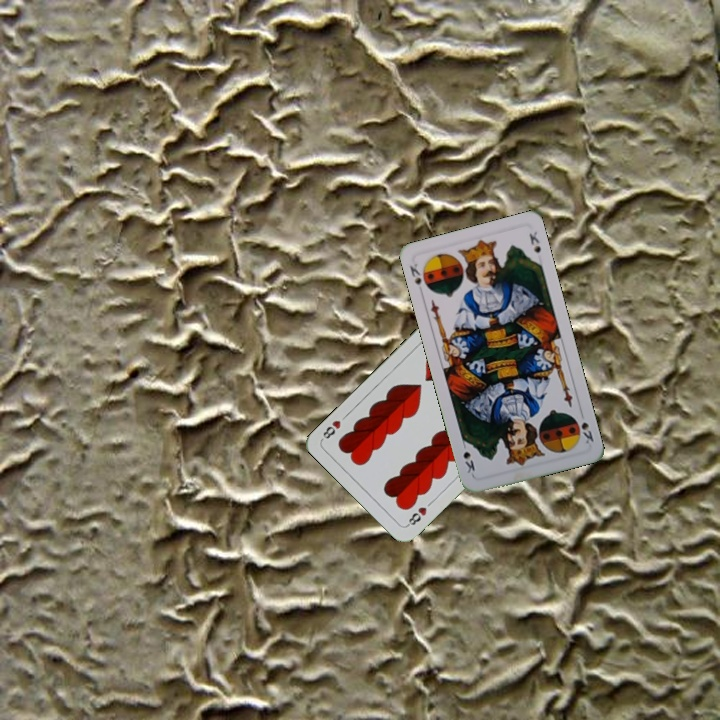H8: (403, 503, 429, 529)
SK: (576, 407, 596, 447), (406, 260, 426, 297)
